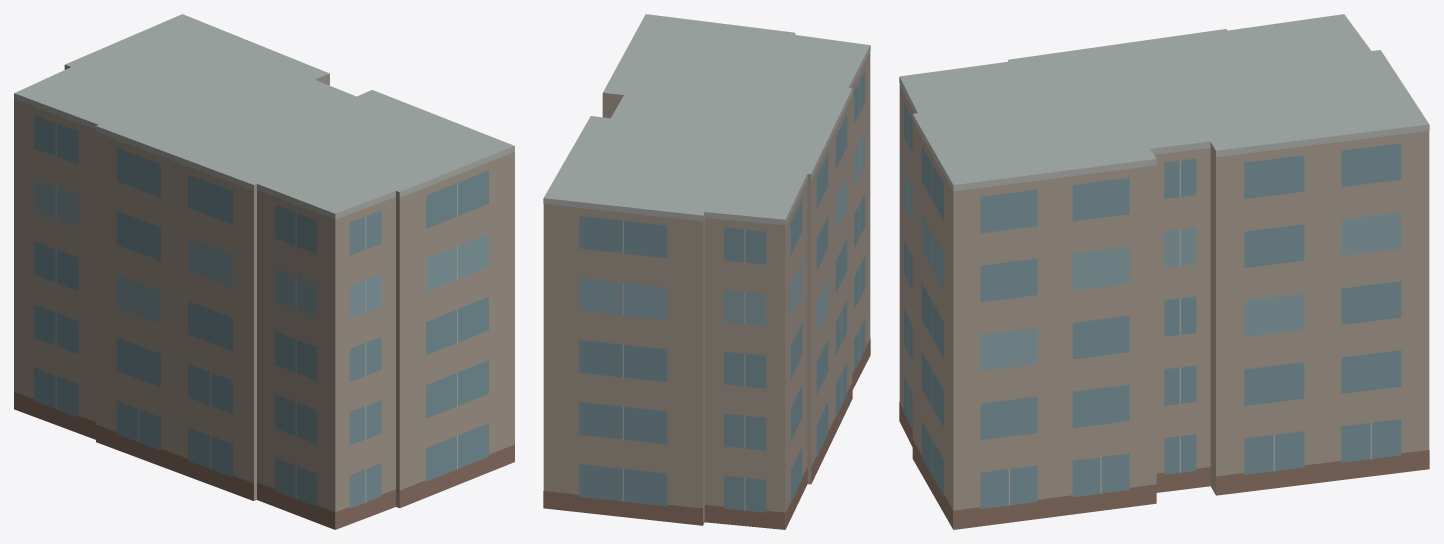
The model's file is survey-upis-32778773.glb.
The picture shows the model from 3 angles, left to right: view 1: azimuth 30°, elevation 25°; view 2: azimuth 150°, elevation 25°; view 3: azimuth 270°, elevation 25°; orthographic projection. The views are drawn at different scales.
Parts seen in each view (by area): view 1: survey-upis-32778773.tmp; view 2: survey-upis-32778773.tmp; view 3: survey-upis-32778773.tmp.
Part boxes in pixels (box(x1,y1,x2,y2)): survey-upis-32778773.tmp: box(14, 14, 514, 529); survey-upis-32778773.tmp: box(543, 14, 870, 529); survey-upis-32778773.tmp: box(899, 14, 1429, 529).
Size of the model in its own units: 13.98 by 13.12 by 18.29.
